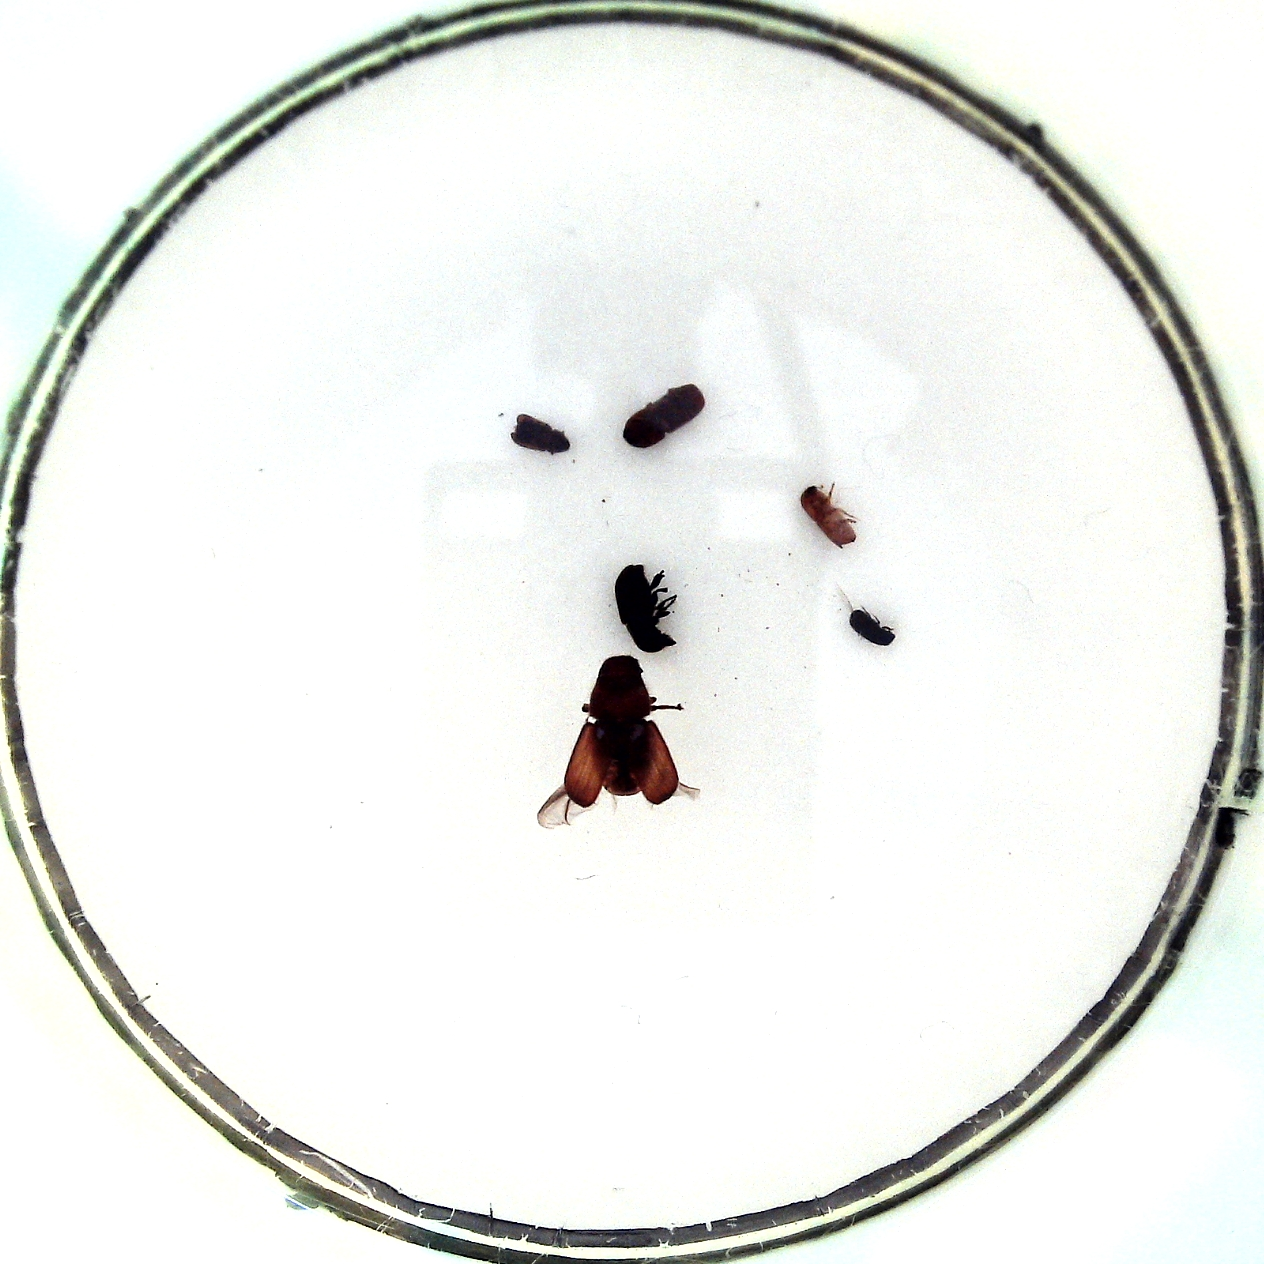Leconte: (564, 655, 679, 808)
acuminatus: (850, 609, 895, 646)
armandi: (615, 564, 678, 653)
coleoptera: (800, 486, 857, 549), (510, 414, 569, 454)
linnaeus: (623, 382, 705, 448)
